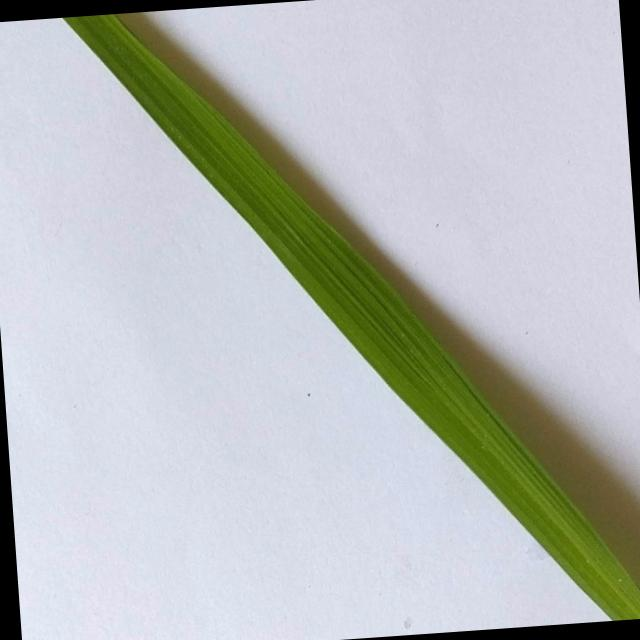Rice_Healthy: (63, 14, 640, 620)
